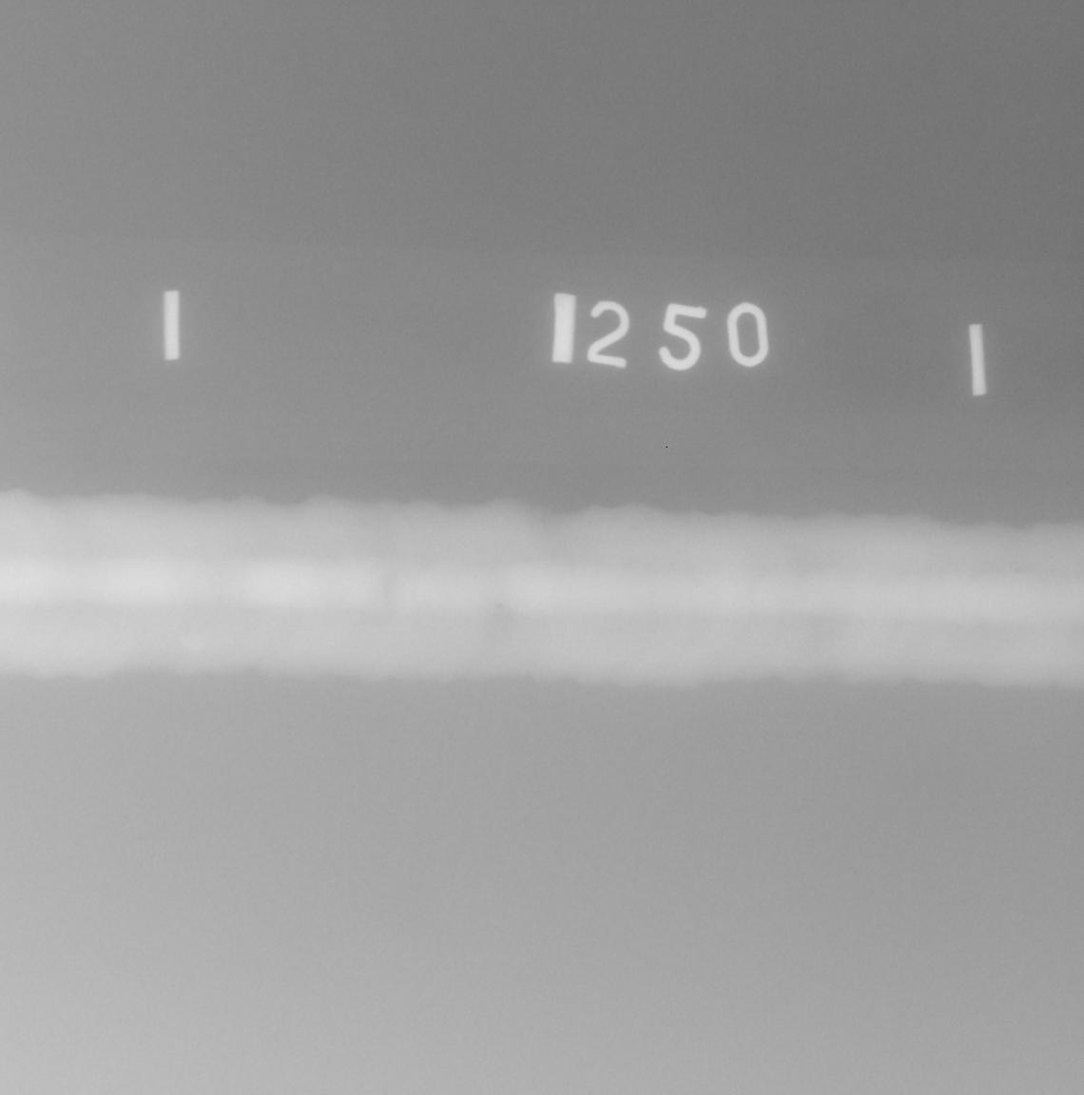Pore/Porosity: (496, 604, 503, 609), (1014, 569, 1021, 573)
